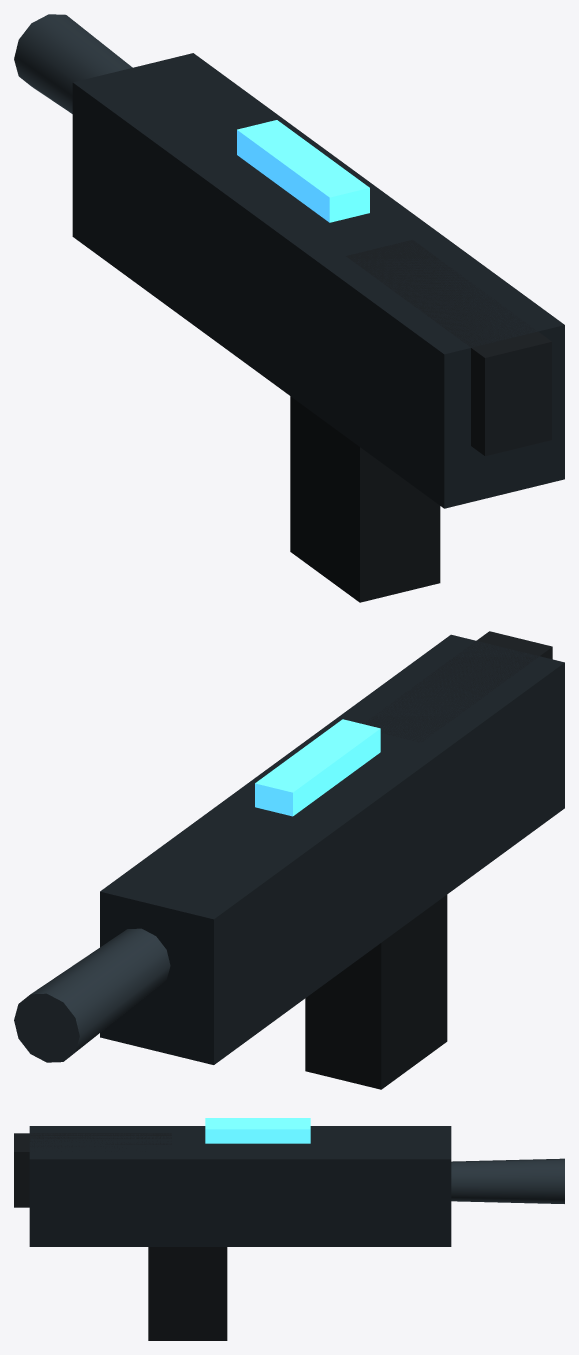
Rendered from smg.glb.
The picture shows the model from 3 angles, top to bottom: view 1: azimuth 30°, elevation 25°; view 2: azimuth 150°, elevation 25°; view 3: azimuth 270°, elevation 25°; orthographic projection. The views are drawn at different scales.
Size of the model in its own units: 0.09 by 0.259 by 0.6276.
